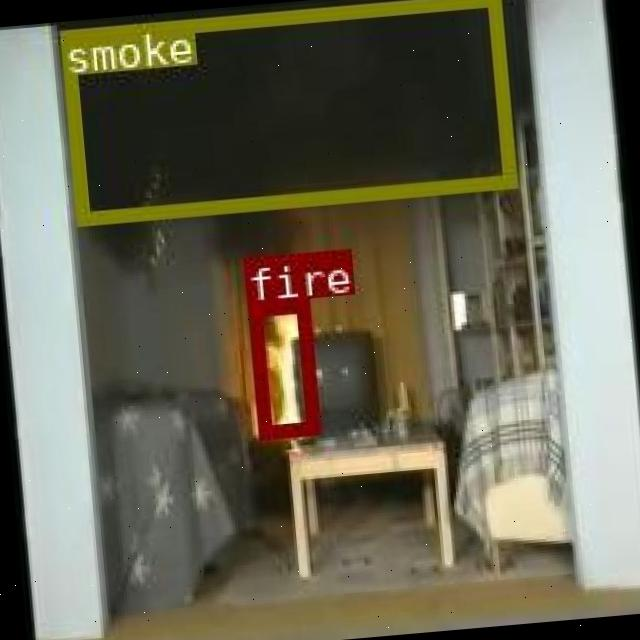fire: (244, 296, 317, 436)
smoke: (58, 0, 513, 223)
